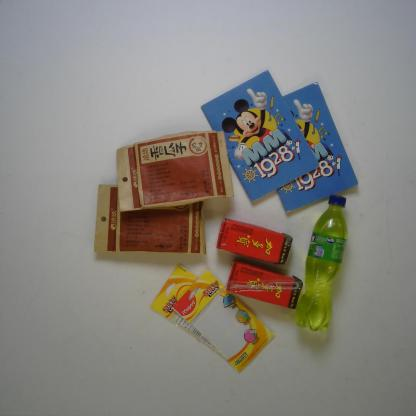Dried Food: (112, 126, 236, 214), (90, 179, 210, 260)
Drink: (290, 191, 351, 335), (222, 254, 306, 312), (210, 215, 298, 267)
Stationery: (197, 66, 322, 207), (170, 263, 278, 376), (273, 78, 360, 215), (147, 261, 232, 367)
